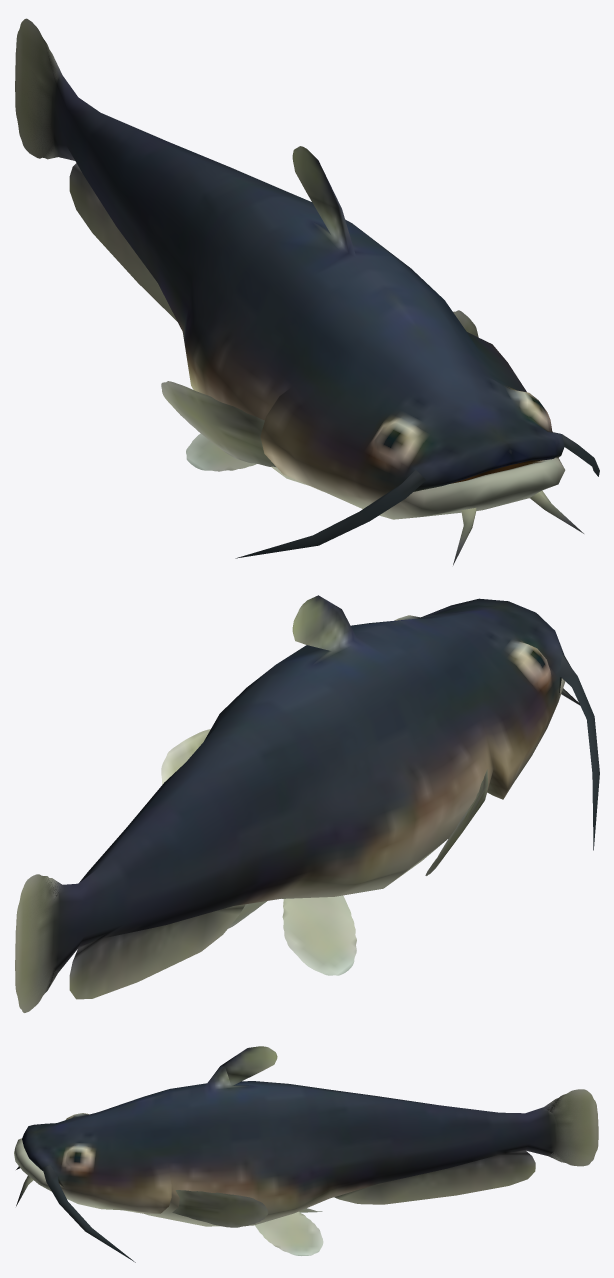
Rendered from catfish.glb.
The picture shows the model from 3 angles, top to bottom: view 1: azimuth 30°, elevation 25°; view 2: azimuth 150°, elevation 25°; view 3: azimuth 270°, elevation 25°; orthographic projection. The views are drawn at different scales.
Bounding box in the file's own units: 3.45 × 3 × 8.42.
Materials: 1 (1 with a texture image).
